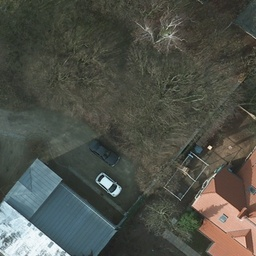car: (87, 139, 120, 166), (96, 172, 121, 196)
